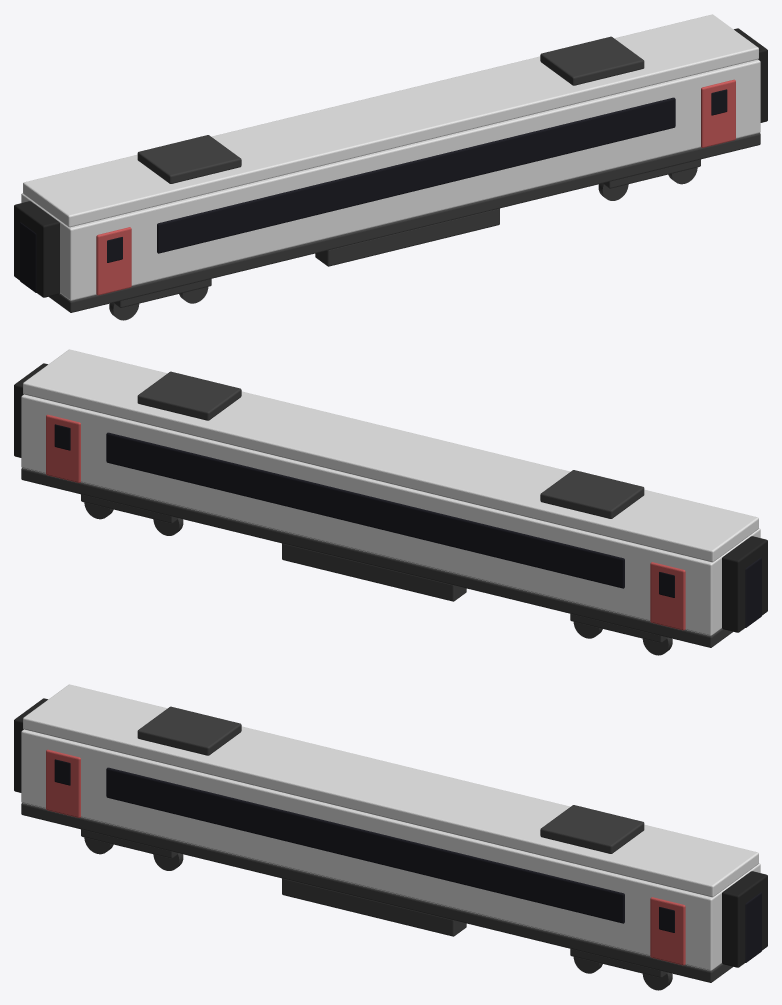
The model's file is Passenger Coach.fbx.
3 views of the same model, one above another, from view 1: azimuth 30°, elevation 25°; view 2: azimuth 150°, elevation 25°; view 3: azimuth 330°, elevation 25° (orthographic).
Visible parts, largest first — view 1: Coach_Roof, Coach_Body, Window_Strip_R, Chassis, HVAC_Front, HVAC_Rear, Equip_Battery_R, Gangway_Rear, Door_R_2, Door_R_1, Gangway_Door_R, Gangway_Front (+2 smaller); view 2: Coach_Roof, Coach_Body, Window_Strip_L, Chassis, HVAC_Front, HVAC_Rear, Equip_Battery_L, Gangway_Rear, Door_L_2, Door_L_1, Gangway_Door_R, Gangway_Front (+2 smaller); view 3: Coach_Roof, Coach_Body, Window_Strip_R, Chassis, HVAC_Front, HVAC_Rear, Equip_Battery_R, Gangway_Front, Door_R_1, Door_R_2, Gangway_Door_F, Gangway_Rear (+2 smaller).
Boxes of the visible parts, bbox=[...] form: Coach_Roof: bbox=[23, 14, 758, 227]; Coach_Body: bbox=[21, 59, 760, 300]; Window_Strip_R: bbox=[157, 97, 675, 253]; Chassis: bbox=[49, 133, 760, 312]; HVAC_Front: bbox=[540, 36, 644, 85]; HVAC_Rear: bbox=[137, 135, 241, 183]; Equip_Battery_R: bbox=[315, 208, 499, 266]; Gangway_Rear: bbox=[14, 201, 59, 297]; Door_R_2: bbox=[96, 227, 131, 295]; Door_R_1: bbox=[701, 79, 735, 147]; Gangway_Door_R: bbox=[20, 222, 36, 292]; Gangway_Front: bbox=[734, 28, 767, 122]; Coach_Roof: bbox=[23, 349, 758, 562]; Coach_Body: bbox=[21, 394, 760, 635]; Window_Strip_L: bbox=[106, 432, 624, 588]; Chassis: bbox=[21, 468, 732, 647]; HVAC_Front: bbox=[137, 371, 241, 420]; HVAC_Rear: bbox=[540, 470, 644, 518]; Equip_Battery_L: bbox=[282, 543, 466, 601]; Gangway_Rear: bbox=[722, 536, 767, 632]; Door_L_2: bbox=[650, 562, 685, 630]; Door_L_1: bbox=[46, 414, 80, 482]; Gangway_Door_R: bbox=[745, 557, 761, 627]; Gangway_Front: bbox=[14, 363, 47, 457]; Coach_Roof: bbox=[23, 684, 758, 897]; Coach_Body: bbox=[21, 729, 760, 970]; Window_Strip_R: bbox=[106, 767, 624, 923]; Chassis: bbox=[21, 803, 732, 982]; HVAC_Front: bbox=[540, 805, 644, 853]; HVAC_Rear: bbox=[137, 706, 241, 755]; Equip_Battery_R: bbox=[282, 878, 466, 936]; Gangway_Front: bbox=[722, 871, 767, 967]; Door_R_1: bbox=[650, 897, 685, 965]; Door_R_2: bbox=[46, 749, 80, 817]; Gangway_Door_F: bbox=[745, 892, 761, 962]; Gangway_Rear: bbox=[14, 698, 47, 792].
Bounding box in the file's own units: 2525 × 450 × 317.
